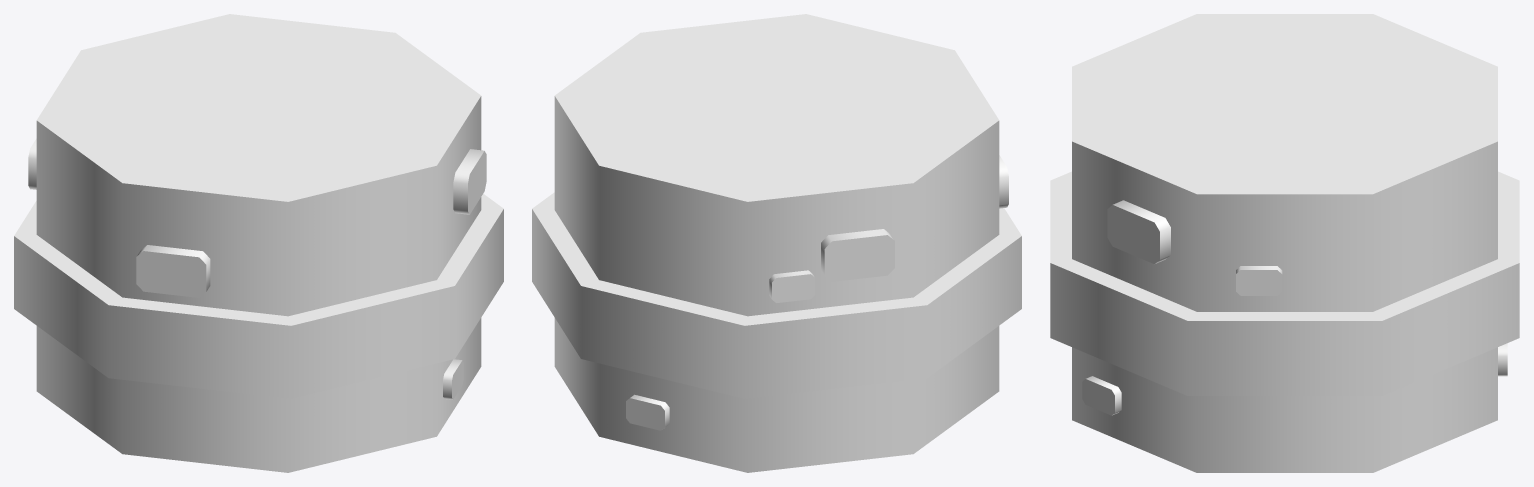
Rendered from tower-middle.glb.
The picture shows the model from 3 angles, left to right: view 1: azimuth 30°, elevation 25°; view 2: azimuth 150°, elevation 25°; view 3: azimuth 270°, elevation 25°; orthographic projection. The views are drawn at different scales.
Parts seen in each view (by area): view 1: tower-middle; view 2: tower-middle; view 3: tower-middle.
Part boxes in pixels (bbox=[...]): tower-middle: bbox=[14, 14, 503, 472]; tower-middle: bbox=[532, 14, 1021, 472]; tower-middle: bbox=[1050, 14, 1519, 472].
Size of the model in its own units: 3.05 by 2 by 3.05.
1 material, 1 textured.
